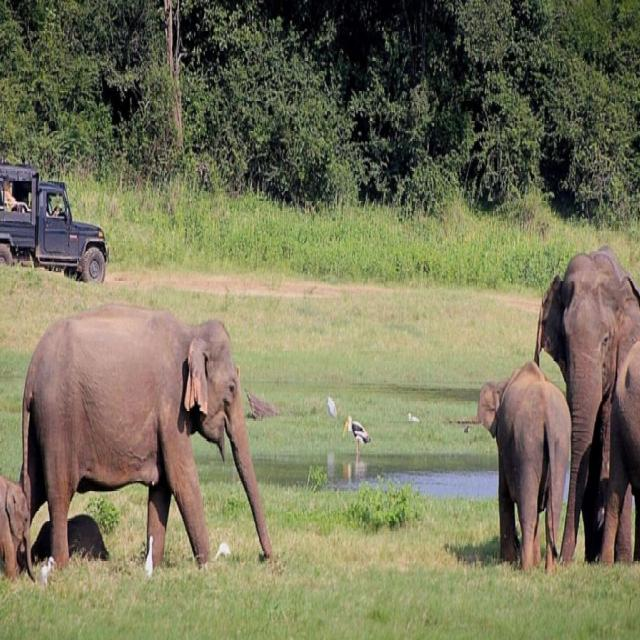Elephant: (10, 308, 284, 585), (552, 243, 640, 578), (480, 363, 576, 580), (595, 332, 639, 610), (32, 506, 124, 590), (1, 460, 38, 597)
